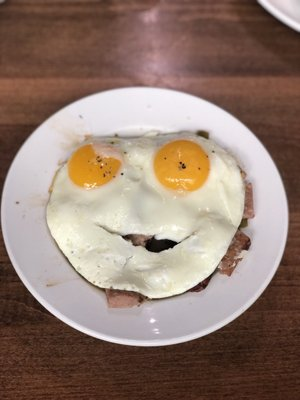curry: (1, 1, 299, 368)
